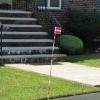stairs: (1, 10, 67, 64)
